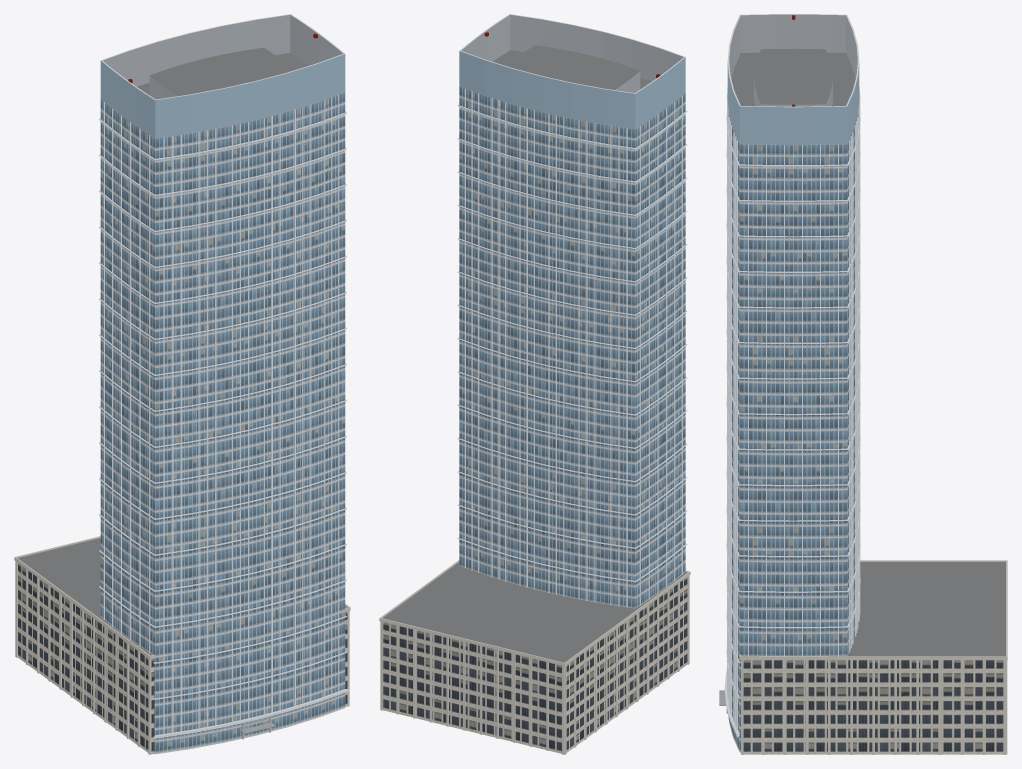
The model's file is tokyo_midtown_yaesu.glb.
3 renders of one model, left to right at view 1: azimuth 30°, elevation 25°; view 2: azimuth 150°, elevation 25°; view 3: azimuth 270°, elevation 25°, orthographic. The views are drawn at different scales.
Visible parts, largest first — view 1: tokyo_midtown_yaesu; view 2: tokyo_midtown_yaesu; view 3: tokyo_midtown_yaesu.
Part boxes in pixels (left/top/right/bottom): tokyo_midtown_yaesu: left=14, top=14, right=350, bottom=754; tokyo_midtown_yaesu: left=379, top=14, right=690, bottom=754; tokyo_midtown_yaesu: left=719, top=14, right=1007, bottom=754.
Bounding box in the file's own units: 77 × 240 × 97.01.
Materials: 3 (3 with a texture image).
